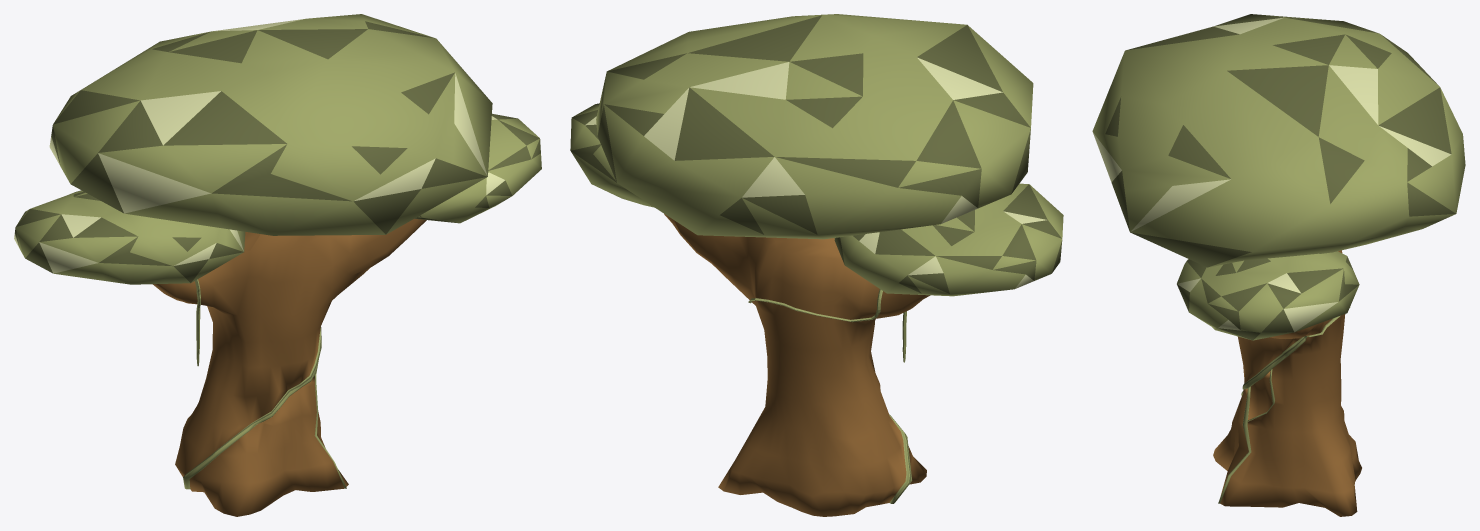
Rendered from Assets.fbx_Baum.fbx.
3 renders of one model, left to right at view 1: azimuth 30°, elevation 25°; view 2: azimuth 150°, elevation 25°; view 3: azimuth 270°, elevation 25°, orthographic. The views are drawn at different scales.
Visible parts, largest first — view 1: Baumkrone, Baumstamm.001, Baumkrone links, Baumkronme rechts; view 2: Baumkrone, Baumstamm.001, Baumkrone links, Baumkronme rechts, Liane; view 3: Baumkrone, Baumstamm.001, Baumkronme rechts.
Part boxes in pixels (x1,y1,x2,y2): Baumkrone: (49,14,492,235); Baumstamm.001: (153,218,426,516); Baumkrone links: (14,190,245,284); Baumkronme rechts: (414,113,541,223); Baumkrone: (596,14,1033,239); Baumstamm.001: (664,214,930,516); Baumkrone links: (834,183,1063,296); Baumkronme rechts: (570,103,654,207); Liane: (748,289,906,362); Baumkrone: (1092,14,1465,267); Baumstamm.001: (1213,250,1361,516); Baumkronme rechts: (1177,251,1359,340).
Size of the model in its own units: 1491 by 1260 by 1000.
